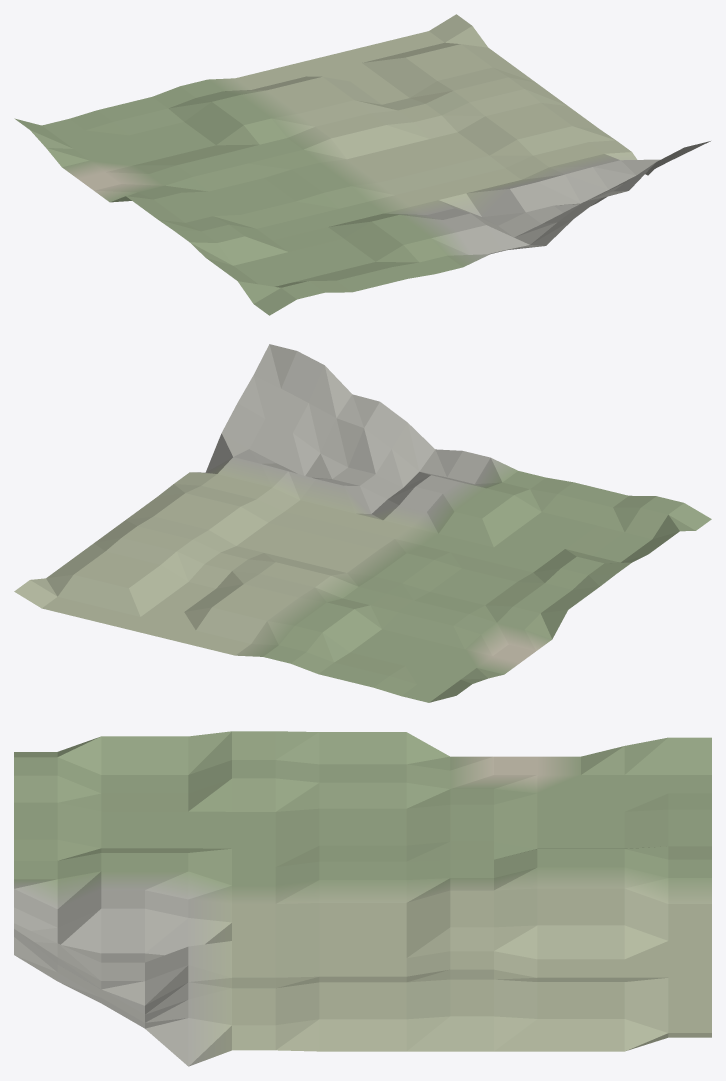
The picture shows the model from 3 angles, top to bottom: view 1: azimuth 30°, elevation 25°; view 2: azimuth 150°, elevation 25°; view 3: azimuth 270°, elevation 25°; orthographic projection. The views are drawn at different scales.
Size of the model in its own units: 32 by 5.72 by 32.
